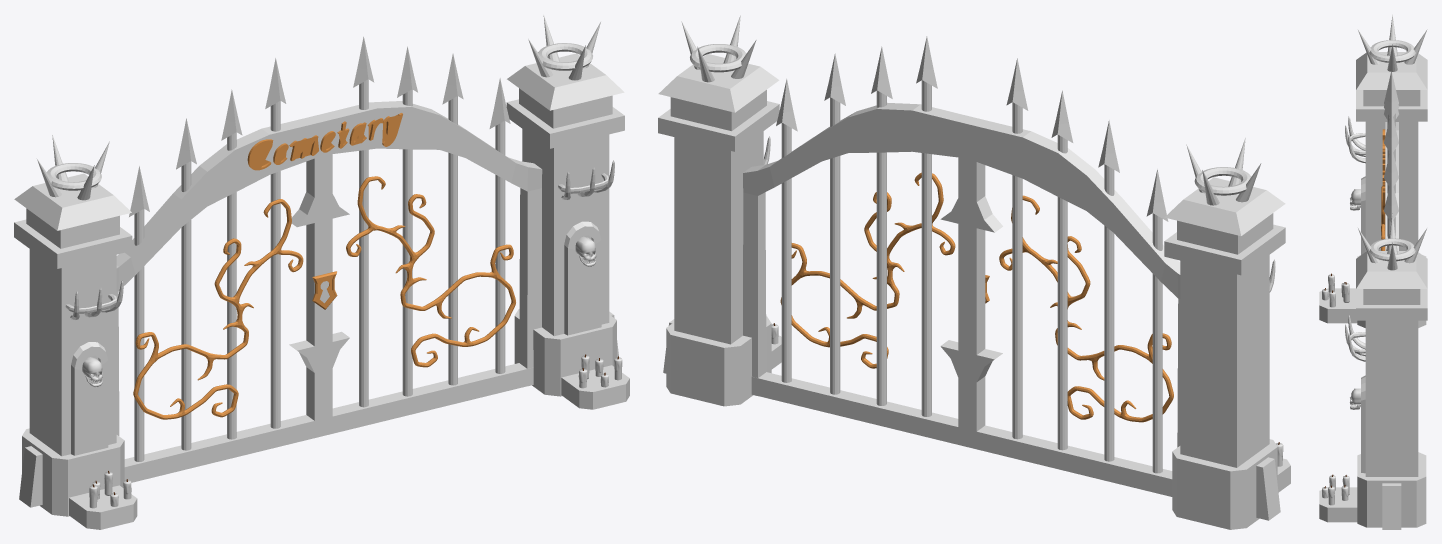
The model's file is CemetaryGate.fbx.
The picture shows the model from 3 angles, left to right: view 1: azimuth 30°, elevation 25°; view 2: azimuth 150°, elevation 25°; view 3: azimuth 270°, elevation 25°; orthographic projection. The views are drawn at different scales.
Visible parts, largest first — view 1: Cube.028; view 2: Cube.028; view 3: Cube.028.
Boxes of the visible parts, <box> form: Cube.028: <box>14,15,629,529</box>; Cube.028: <box>658,15,1290,529</box>; Cube.028: <box>1319,15,1427,529</box>.
Size of the model in its own units: 1092 by 688 by 210.
